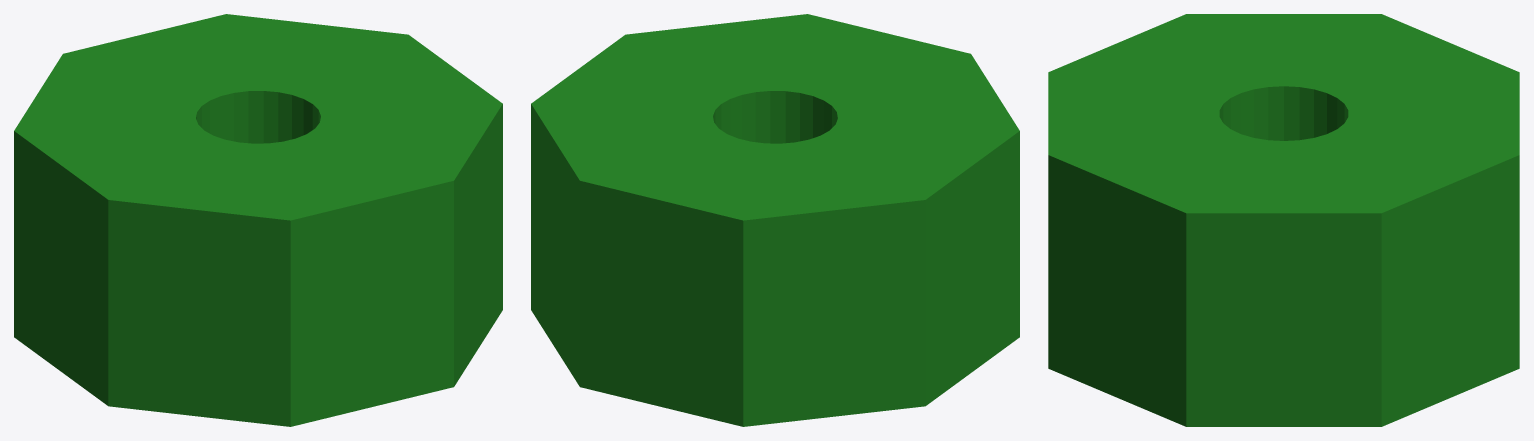
File: green_octagonal_prism.dae
3 views of the same model, side by side, from view 1: azimuth 30°, elevation 25°; view 2: azimuth 150°, elevation 25°; view 3: azimuth 270°, elevation 25° (orthographic). The views are drawn at different scales.
Parts seen in each view (by area): view 1: node0; view 2: node0; view 3: node0.
Boxes of the visible parts, x1,y1,x2,y2 form: node0: (14,14,502,426); node0: (531,14,1019,426); node0: (1048,14,1519,426).
Bounding box in the file's own units: 0.02 × 0.02 × 0.01.
